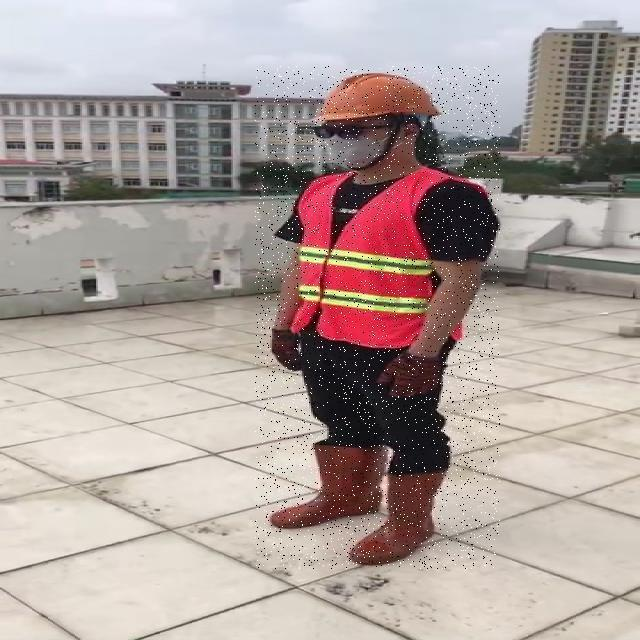boots: (270, 444, 384, 530), (350, 473, 448, 565)
helmet: (311, 67, 445, 126)
vest: (296, 169, 466, 347)
